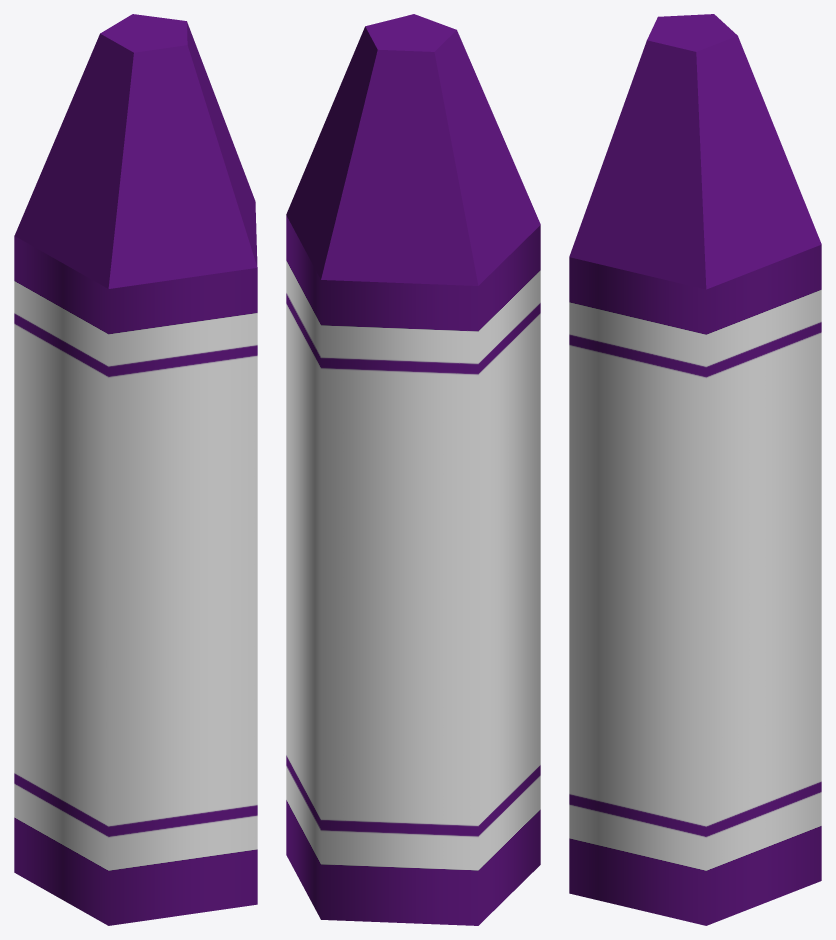
Rendered from Crepas_Purple.fbx.
The picture shows the model from 3 angles, left to right: view 1: azimuth 30°, elevation 25°; view 2: azimuth 150°, elevation 25°; view 3: azimuth 270°, elevation 25°; orthographic projection.
Parts seen in each view (by area): view 1: Purple; view 2: Purple; view 3: Purple.
Boxes of the visible parts, box(x1,y1,x2,y2) form: Purple: box(14, 14, 257, 925); Purple: box(286, 14, 540, 925); Purple: box(569, 14, 821, 925).
Bounding box in the file's own units: 8.36 × 30.99 × 8.46.
1 material, 1 textured.
